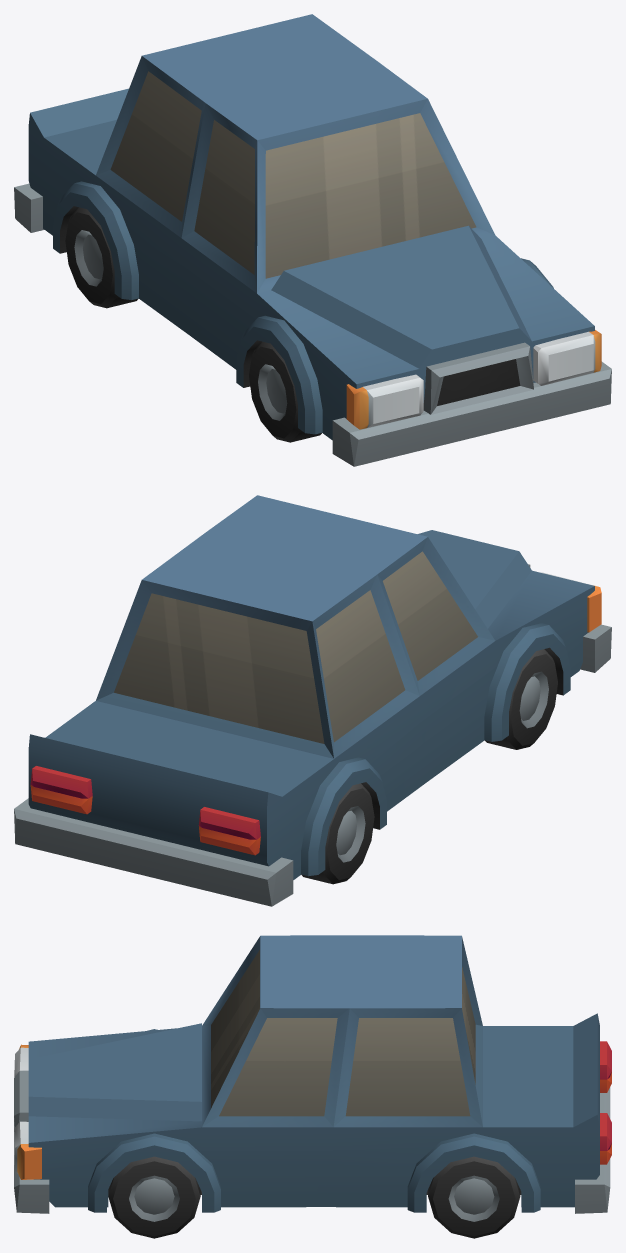
The model's file is car_sedan.gltf.
3 renders of one model, top to bottom at view 1: azimuth 30°, elevation 25°; view 2: azimuth 150°, elevation 25°; view 3: azimuth 270°, elevation 25°, orthographic. The views are drawn at different scales.
Parts seen in each view (by area): view 1: car_sedan, car_sedan_wheel_rear_right, car_sedan_wheel_front_right; view 2: car_sedan, car_sedan_wheel_rear_right, car_sedan_wheel_front_right; view 3: car_sedan, car_sedan_wheel_front_left, car_sedan_wheel_rear_left.
Boxes of the visible parts, left/top/right/bottom form: car_sedan: left=14, top=14, right=611, bottom=466; car_sedan_wheel_rear_right: left=65, top=207, right=138, bottom=308; car_sedan_wheel_front_right: left=249, top=341, right=321, bottom=442; car_sedan: left=14, top=495, right=611, bottom=906; car_sedan_wheel_rear_right: left=301, top=783, right=374, bottom=884; car_sedan_wheel_front_right: left=485, top=649, right=557, bottom=749; car_sedan: left=14, top=935, right=611, bottom=1213; car_sedan_wheel_front_left: left=108, top=1156, right=200, bottom=1238; car_sedan_wheel_rear_left: left=428, top=1156, right=520, bottom=1238.
Size of the model in its own units: 0.419 by 0.3688 by 0.9381.
1 material, 1 textured.
